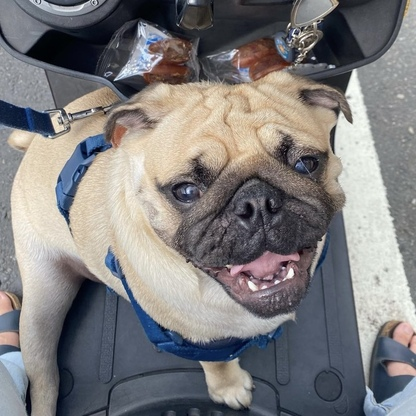Pug: (4, 63, 361, 416)
